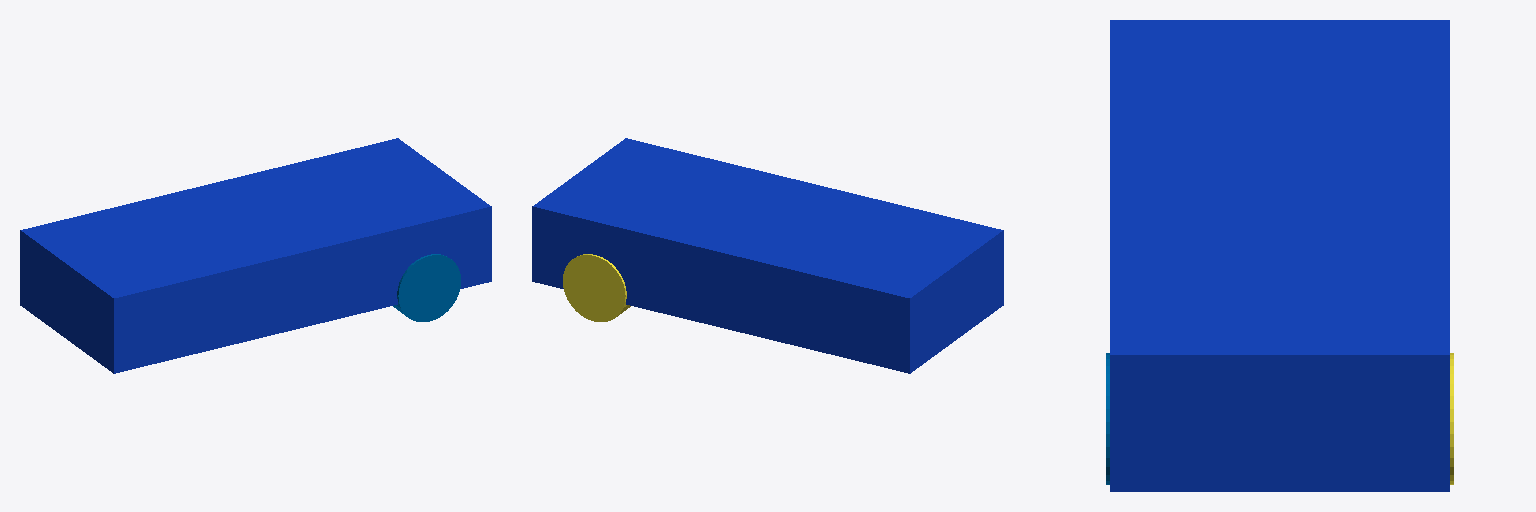
The robot description file, URDF, robot "ackermann_car":
<?xml version="1.0"?>
<!-- Ackermann test car: steering knuckles on revolute joints (one mimics
     the other) and sensors declared only in the sensor config file. -->
<robot name="ackermann_car">
  <link name="base_link">
    <visual>
      <origin xyz="0 0 0.3"/>
      <geometry><box size="4.2 1.8 0.8"/></geometry>
      <material name="paint"><color rgba="0.1 0.3 0.8 1"/></material>
    </visual>
  </link>

  <link name="front_left_knuckle"/>
  <joint name="front_left_steer" type="revolute">
    <parent link="base_link"/>
    <child link="front_left_knuckle"/>
    <origin xyz="1.4 0.8 0"/>
    <axis xyz="0 0 1"/>
    <limit lower="-0.6" upper="0.6" effort="10" velocity="1"/>
  </joint>
  <link name="front_right_knuckle"/>
  <joint name="front_right_steer" type="revolute">
    <parent link="base_link"/>
    <child link="front_right_knuckle"/>
    <origin xyz="1.4 -0.8 0"/>
    <axis xyz="0 0 1"/>
    <limit lower="-0.6" upper="0.6" effort="10" velocity="1"/>
    <mimic joint="front_left_steer" multiplier="1.0" offset="0"/>
  </joint>
  <link name="front_left_wheel">
    <visual>
      <origin rpy="1.5707963267948966 0 0"/>
      <geometry><cylinder radius="0.35" length="0.25"/></geometry>
    </visual>
  </link>
  <joint name="front_left_wheel_joint" type="continuous">
    <parent link="front_left_knuckle"/>
    <child link="front_left_wheel"/>
    <axis xyz="0 1 0"/>
  </joint>
  <link name="front_right_wheel">
    <visual>
      <origin rpy="1.5707963267948966 0 0"/>
      <geometry><cylinder radius="0.35" length="0.25"/></geometry>
    </visual>
  </link>
  <joint name="front_right_wheel_joint" type="continuous">
    <parent link="front_right_knuckle"/>
    <child link="front_right_wheel"/>
    <axis xyz="0 1 0"/>
  </joint>

  <link name="roof"/>
  <joint name="roof_joint" type="fixed">
    <parent link="base_link"/>
    <child link="roof"/>
    <origin xyz="0.2 0 1.2"/>
  </joint>
  <link name="zed_left_optical"/>
  <joint name="zed_joint" type="fixed">
    <parent link="base_link"/>
    <child link="zed_left_optical"/>
    <!-- optical convention (z forward), looking forward and 10 degrees down -->
    <origin xyz="1.0 0.06 1.0" rpy="-1.7453292519943295 0 -1.5707963267948966"/>
  </joint>
</robot>

--- What the picture shows (computed from the rendered views, not written in the file) ---
The picture shows the robot from 3 angles, left to right: view 1: azimuth 30°, elevation 25°; view 2: azimuth 150°, elevation 25°; view 3: azimuth 270°, elevation 25°; orthographic projection.
Model ackermann_car with 7 links and 6 joints (2 revolute, 2 continuous, 2 fixed), rooted at base_link, posed all joints at 0.
Visible links, largest first — view 1: base_link, front_right_wheel; view 2: base_link, front_left_wheel; view 3: base_link, front_left_wheel, front_right_wheel.
Link boxes in pixels (box(x1,y1,x2,y2)): base_link: box(20, 138, 491, 373); front_right_wheel: box(393, 254, 460, 321); base_link: box(532, 138, 1003, 373); front_left_wheel: box(563, 254, 630, 321); base_link: box(1110, 20, 1449, 491); front_left_wheel: box(1450, 353, 1453, 484); front_right_wheel: box(1106, 353, 1109, 484).
Size in the robot's own frame: 4.2 by 1.85 by 1.05 metres.
Geometry: primitives only (box / cylinder / sphere), no mesh files.
